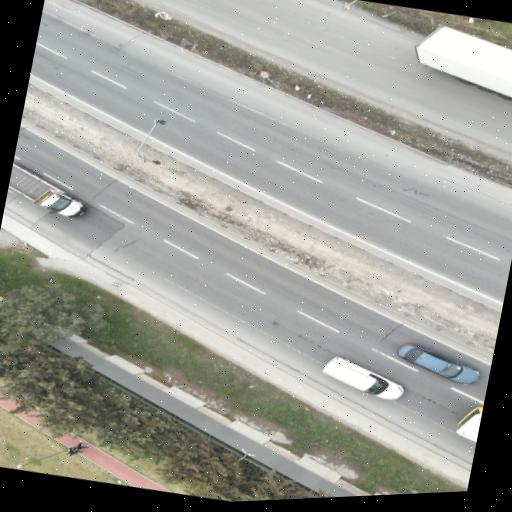bus: (457, 406, 482, 441)
car: (324, 357, 404, 399), (399, 343, 479, 383)
person: (68, 439, 92, 453), (64, 444, 84, 459)
truck: (415, 25, 511, 98), (9, 161, 85, 216), (457, 406, 482, 441)
